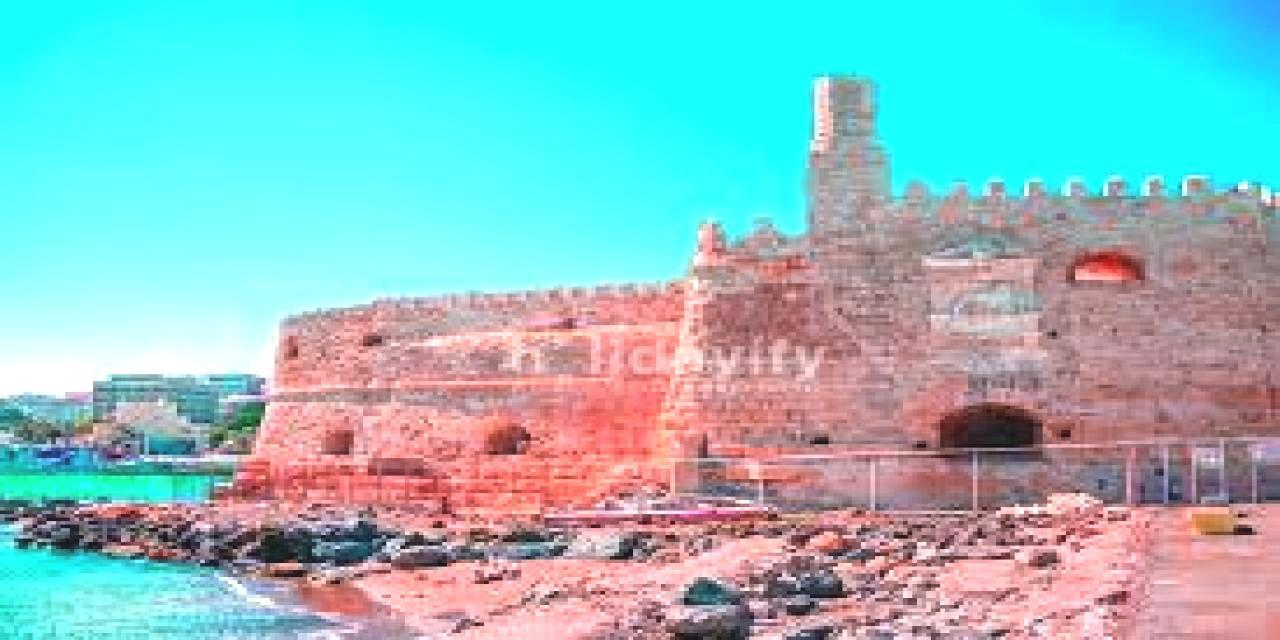Kules: (249, 69, 1280, 510)
